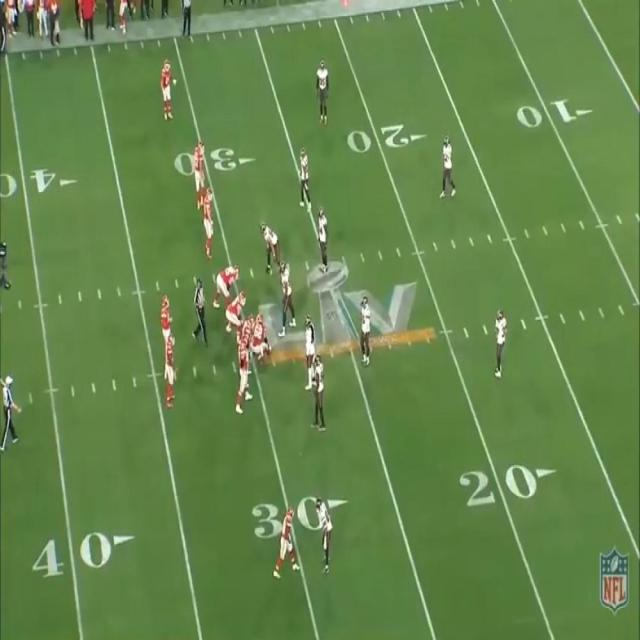center: (254, 314, 273, 358)
db: (313, 497, 336, 563), (315, 62, 331, 124), (440, 132, 456, 193), (495, 312, 504, 375)
lb: (360, 294, 373, 365), (317, 207, 331, 269), (299, 147, 309, 213)
qb: (161, 296, 171, 340)
